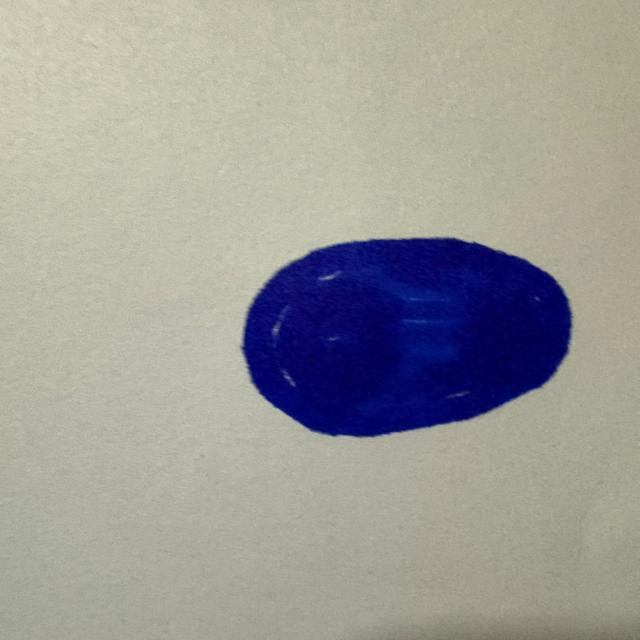Circle: (233, 232, 582, 441)
